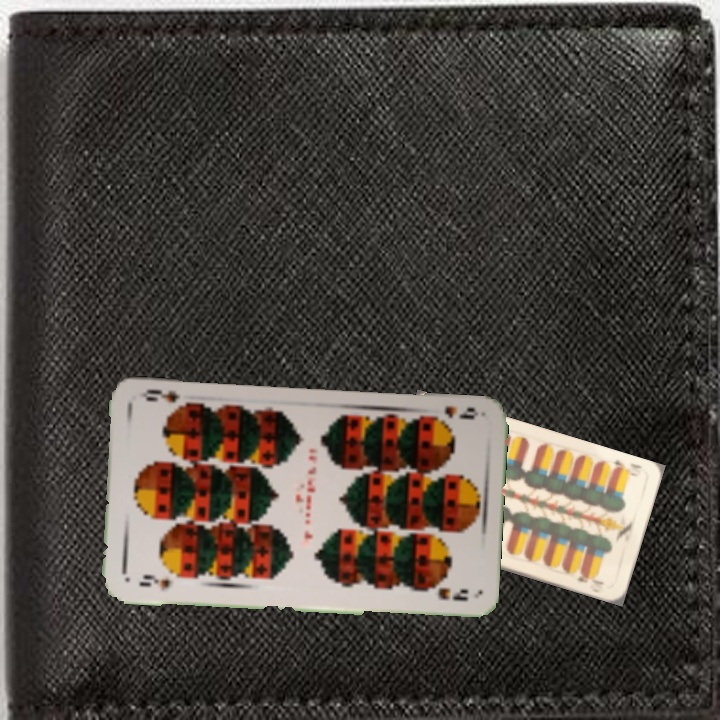E10: (609, 455, 645, 476)
S9: (423, 402, 481, 428), (135, 571, 173, 594)
